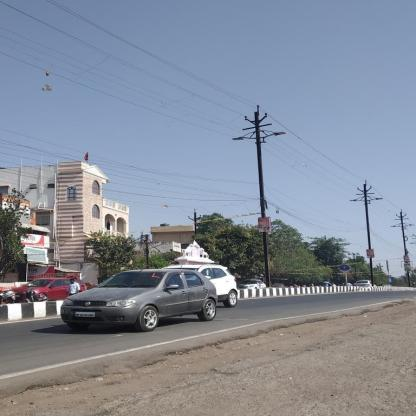Electrical Pole: (225, 99, 294, 289)
